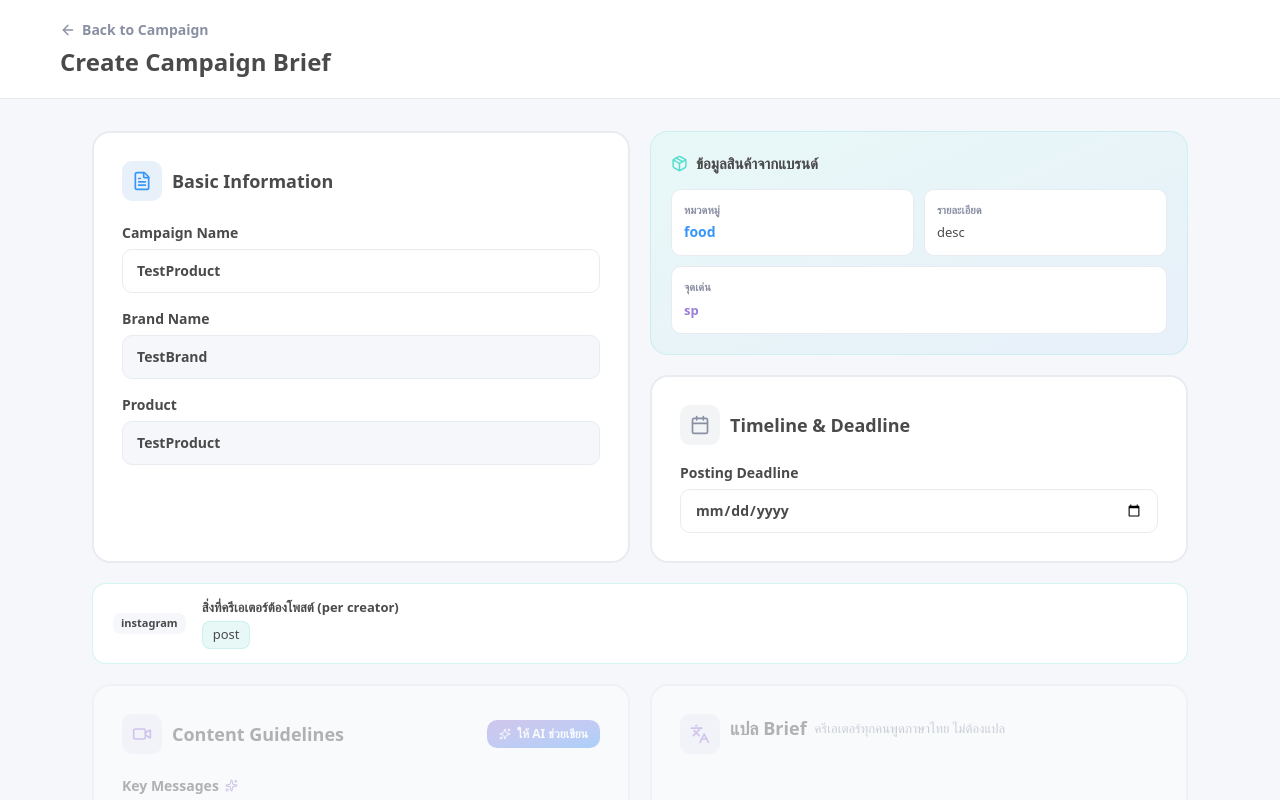
Test: CreateBriefPage — AI prompt dialog › opens dialog when clicking AI button
Click the button "ให้ AI ช่วยเขียน" at (544, 734), box [487,720,600,748]
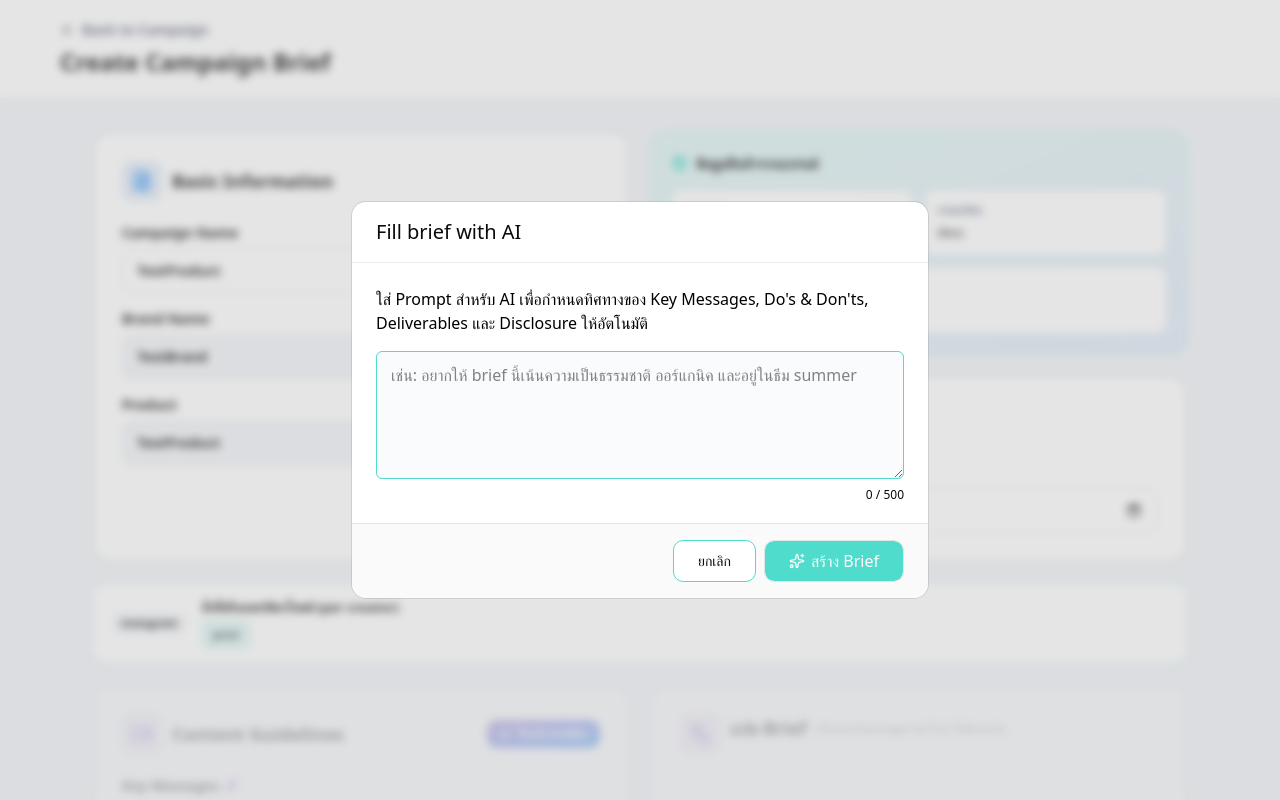
expect the text "Fill brief with AI" is shown: met, box [376,218,521,245]
